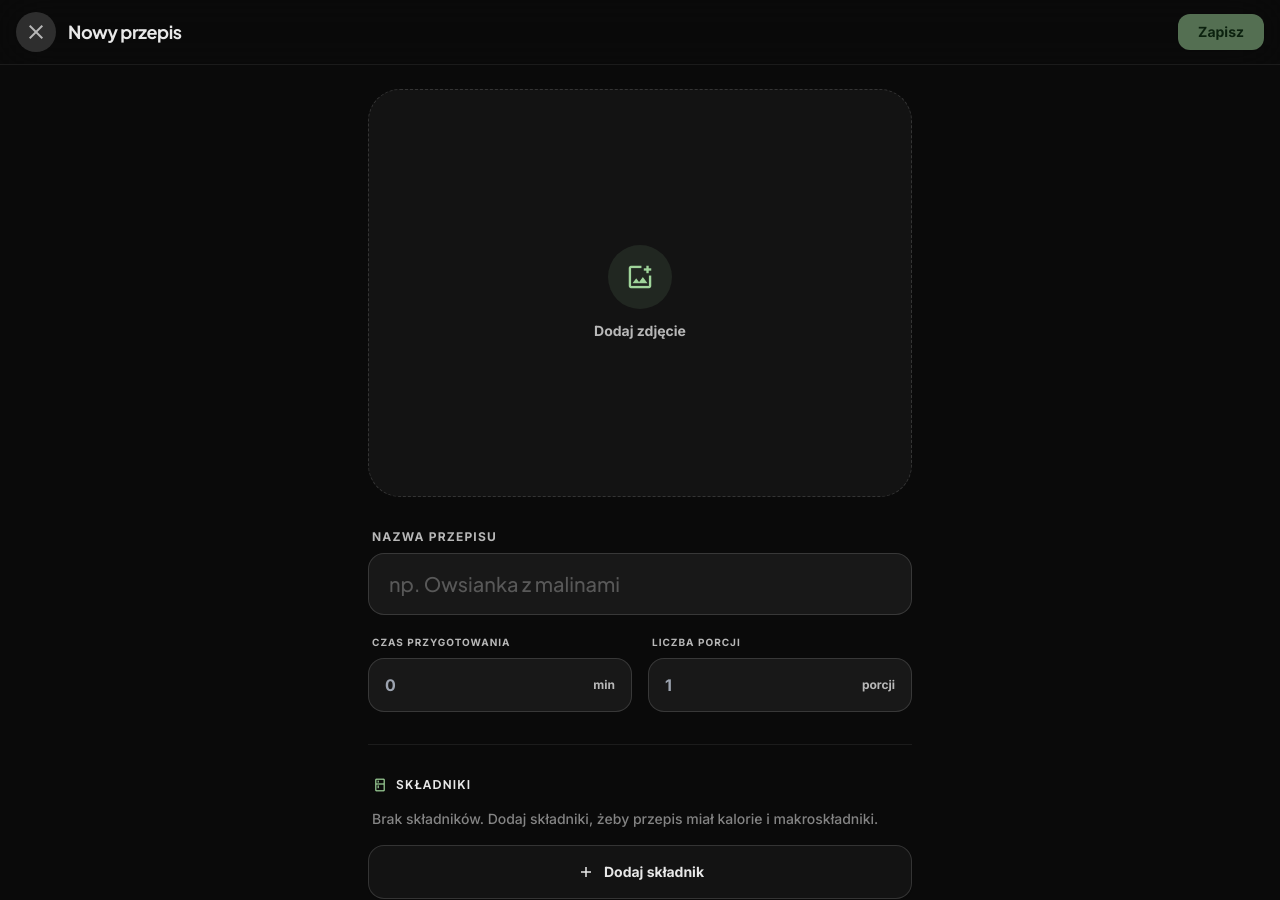
Test: AddRecipe ingredient search › shows only the search hint while there is no history or it is still loading
Click the button "Dodaj składnik": (640, 872) x1=368 y1=845 x2=912 y2=899
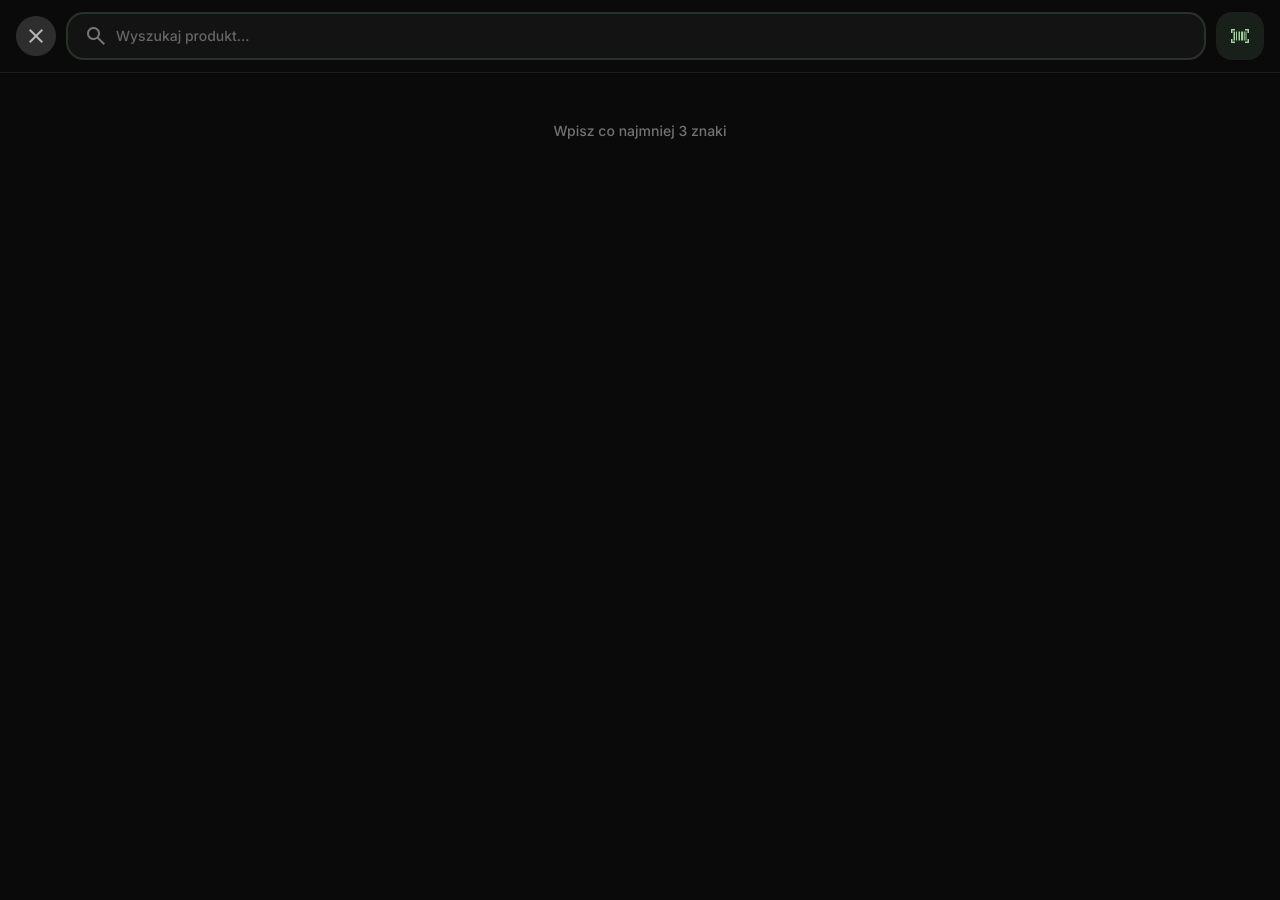
Now the text "Wpisz co najmniej 3 znaki" is shown, box x1=554 y1=122 x2=726 y2=139
